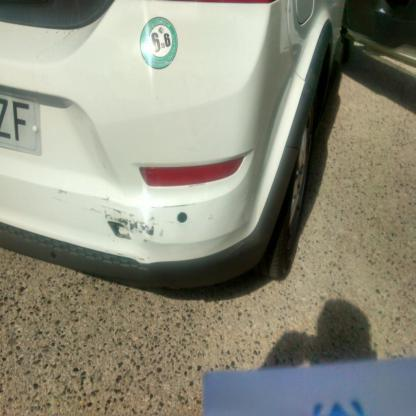door: (288, 2, 344, 120)
headlamp: (140, 156, 245, 186)
rear_bumper: (1, 153, 277, 287)
